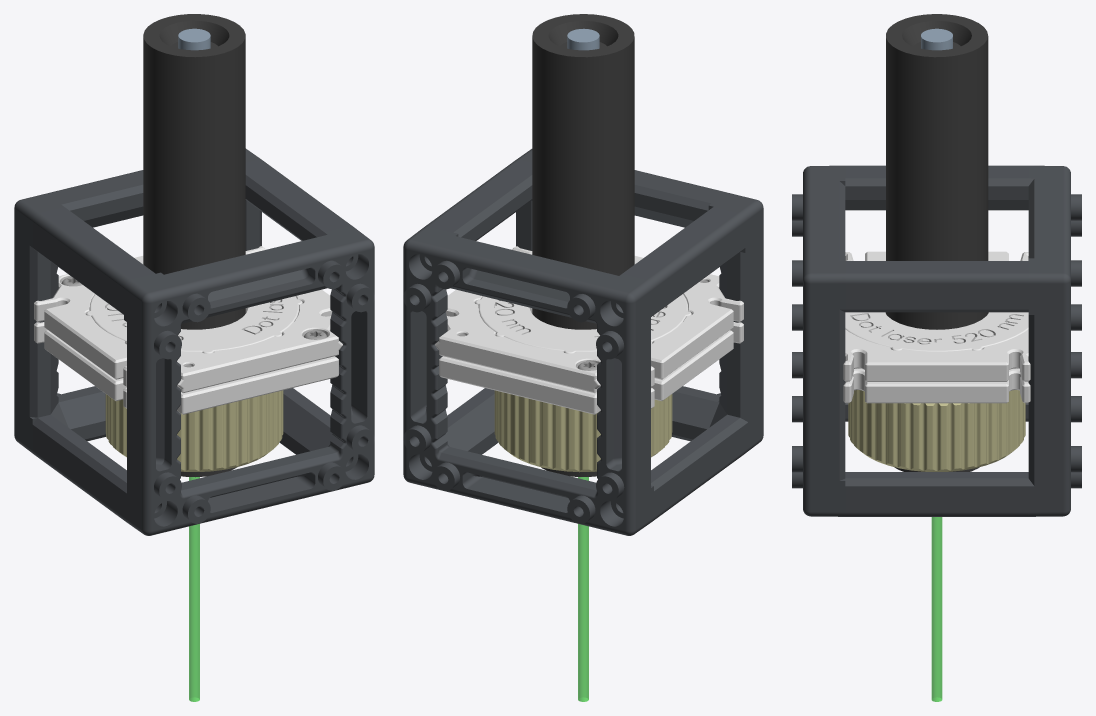
Rendered from ASS_-_2018_-_CUBLAS520_-_V04.glb.
3 renders of one model, left to right at view 1: azimuth 30°, elevation 25°; view 2: azimuth 150°, elevation 25°; view 3: azimuth 270°, elevation 25°, orthographic.
Parts seen in each view (by area): view 1: PRT - 1003 - CUBHLF111 - V04:2, BUY - Picotronic - Dot laser - LFD520-1-3(19x86):1, PRT - 1003 - CUBHLF111 - V04:1, PRT - 2123 - MASLCK - V04:1, PRT - 2117 - NUTLASHOLD19:1, PRT - 2100 - MASINS - V04:1, PRT - 2116 - MASINSHOLLAS520:1; view 2: PRT - 1003 - CUBHLF111 - V04:1, BUY - Picotronic - Dot laser - LFD520-1-3(19x86):1, PRT - 1003 - CUBHLF111 - V04:2, PRT - 2123 - MASLCK - V04:1, PRT - 2117 - NUTLASHOLD19:1, PRT - 2100 - MASINS - V04:1, PRT - 2116 - MASINSHOLLAS520:1; view 3: PRT - 1003 - CUBHLF111 - V04:1, BUY - Picotronic - Dot laser - LFD520-1-3(19x86):1, PRT - 1003 - CUBHLF111 - V04:2, PRT - 2117 - NUTLASHOLD19:1, PRT - 2123 - MASLCK - V04:1, PRT - 2116 - MASINSHOLLAS520:1, PRT - 2100 - MASINS - V04:1.
Boxes of the visible parts, x1,y1,x2,y2 form: PRT - 1003 - CUBHLF111 - V04:2: (32,159,374,535); BUY - Picotronic - Dot laser - LFD520-1-3(19x86):1: (143,14,245,701); PRT - 1003 - CUBHLF111 - V04:1: (14,148,349,462); PRT - 2123 - MASLCK - V04:1: (34,246,342,392); PRT - 2117 - NUTLASHOLD19:1: (105,390,283,471); PRT - 2100 - MASINS - V04:1: (34,322,338,414); PRT - 2116 - MASINSHOLLAS520:1: (86,294,302,353); PRT - 1003 - CUBHLF111 - V04:1: (403,207,745,535); BUY - Picotronic - Dot laser - LFD520-1-3(19x86):1: (532,14,634,701); PRT - 1003 - CUBHLF111 - V04:2: (425,149,763,521); PRT - 2123 - MASLCK - V04:1: (435,246,743,393); PRT - 2117 - NUTLASHOLD19:1: (494,390,672,472); PRT - 2100 - MASINS - V04:1: (439,322,743,414); PRT - 2116 - MASINSHOLLAS520:1: (475,294,691,353); PRT - 1003 - CUBHLF111 - V04:1: (845,165,1081,516); BUY - Picotronic - Dot laser - LFD520-1-3(19x86):1: (886,14,988,701); PRT - 1003 - CUBHLF111 - V04:2: (792,165,1028,516); PRT - 2117 - NUTLASHOLD19:1: (848,390,1025,471); PRT - 2123 - MASLCK - V04:1: (843,251,1030,381); PRT - 2116 - MASINSHOLLAS520:1: (845,312,1028,351); PRT - 2100 - MASINS - V04:1: (843,368,1030,403).
Bounding box in the file's own units: 49.8 × 136 × 53.8.
